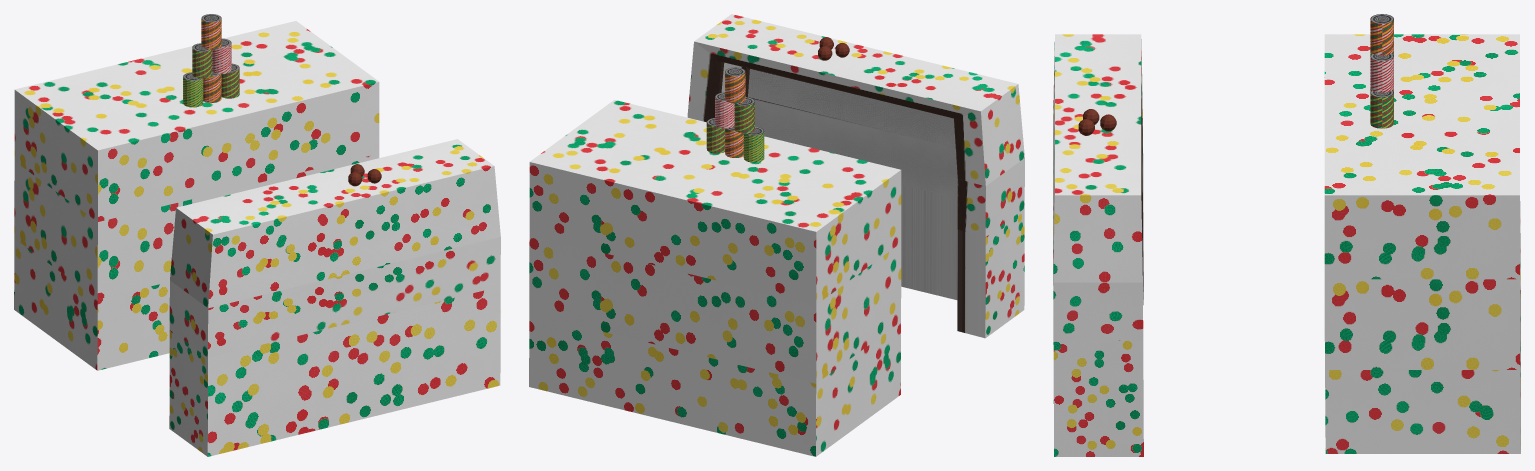
Rendered from Minigame_can_toss02.fbx.
3 renders of one model, left to right at view 1: azimuth 30°, elevation 25°; view 2: azimuth 150°, elevation 25°; view 3: azimuth 270°, elevation 25°, orthographic. The views are drawn at different scales.
Visible parts, largest first — view 1: Minigame_Table_Tall01, Minigame_Table_Tall02, Can01, Can04, Can03, Can02, Can05, Can06; view 2: Minigame_Table_Tall02, Minigame_Table_Tall01, Can01, Can03, Can04, Can02, Can05, Can06; view 3: Minigame_Table_Tall02, Minigame_Table_Tall01, Can01, Can02, Can05.
Boxes of the visible parts, x1,y1,x2,y2 form: Minigame_Table_Tall01: (169,139,500,456); Minigame_Table_Tall02: (14,21,379,370); Can01: (201,14,221,49); Can04: (192,43,212,78); Can03: (183,72,203,107); Can02: (212,38,231,73); Can05: (221,63,239,98); Can06: (203,72,221,102); Minigame_Table_Tall02: (529,100,901,456); Minigame_Table_Tall01: (687,14,1024,338); Can01: (725,67,745,103); Can03: (743,126,764,162); Can04: (734,97,754,133); Can02: (715,92,734,128); Can05: (706,118,724,153); Can06: (725,126,743,157); Minigame_Table_Tall02: (1324,34,1520,453); Minigame_Table_Tall01: (1053,34,1143,456); Can01: (1370,14,1393,55); Can02: (1370,53,1393,92); Can05: (1370,90,1393,128).
Bounding box in the file's own units: 3.23 × 3.17 × 3.81.
Materials: 7 (7 with a texture image).
